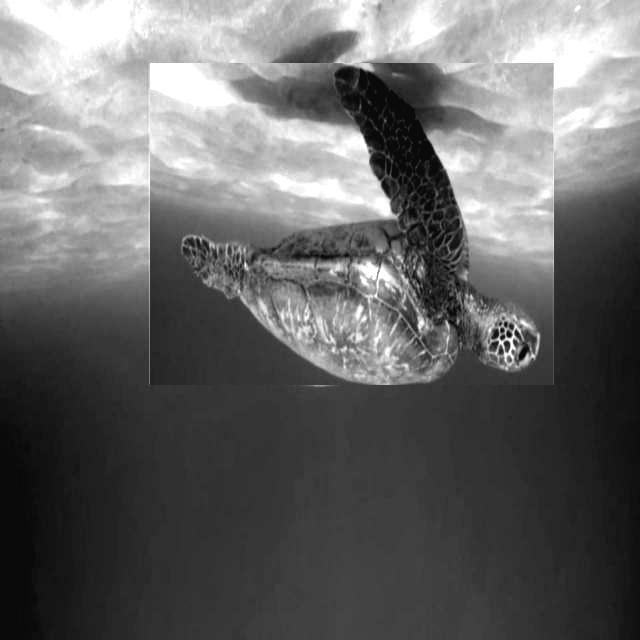Sea turtle: (150, 63, 554, 385)
